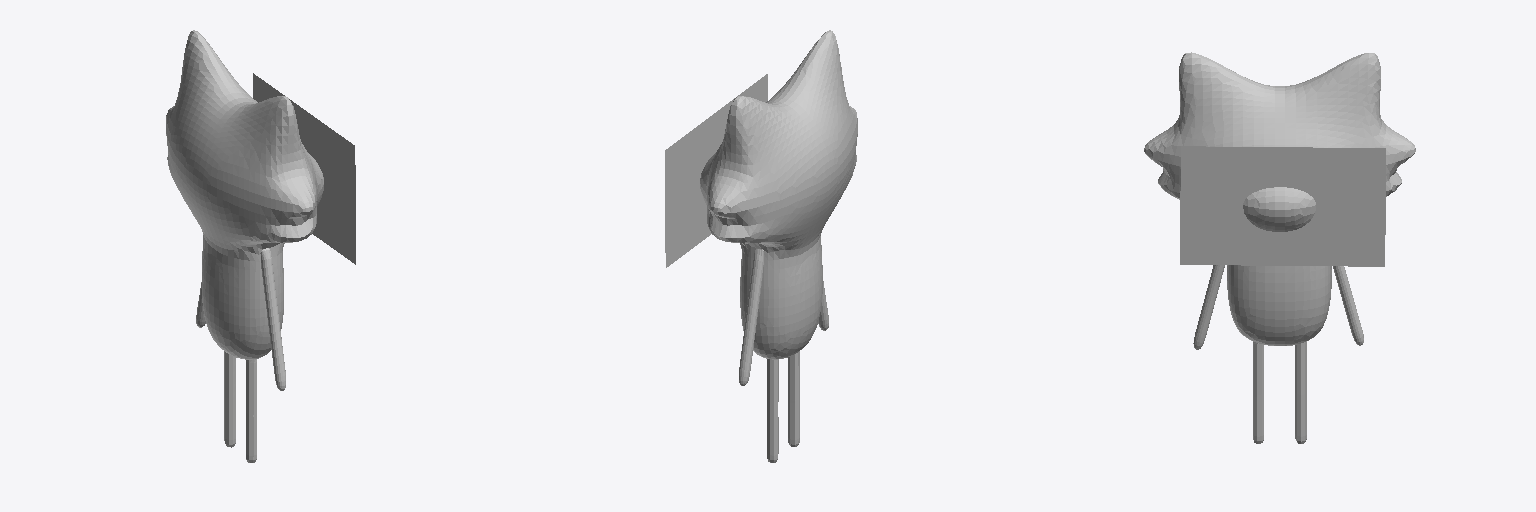
The model's file is elgatoOG.obj.
3 renders of one model, left to right at view 1: azimuth 30°, elevation 25°; view 2: azimuth 150°, elevation 25°; view 3: azimuth 270°, elevation 25°, orthographic.
Parts seen in each view (by area): view 1: RLB_Cube, Plane; view 2: RLB_Cube, Plane; view 3: RLB_Cube, Plane.
Boxes of the visible parts, x1,y1,x2,y2 form: RLB_Cube: [166, 30, 323, 462]; Plane: [253, 73, 355, 264]; RLB_Cube: [700, 30, 857, 462]; Plane: [665, 74, 767, 267]; RLB_Cube: [1144, 52, 1415, 443]; Plane: [1180, 146, 1385, 266].
Size of the model in its own units: 0.6516 by 2.02 by 1.27.